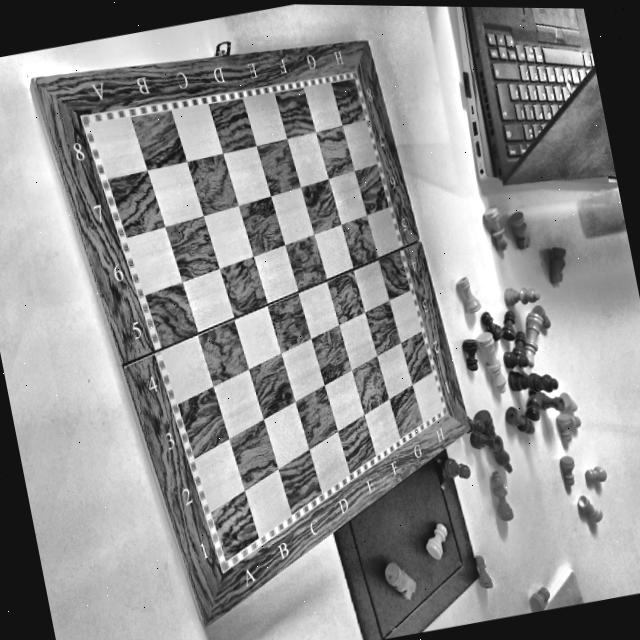chessboard: (34, 40, 470, 627)
